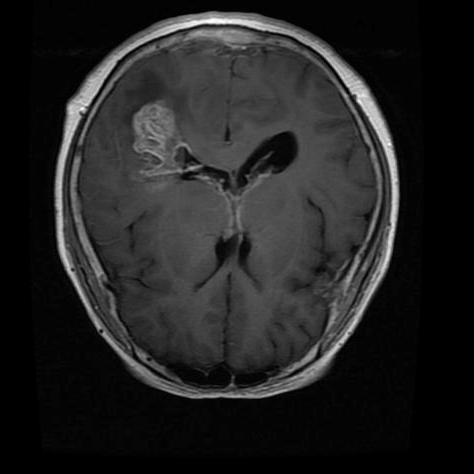Tumour-Glioma: (130, 102, 192, 184)
